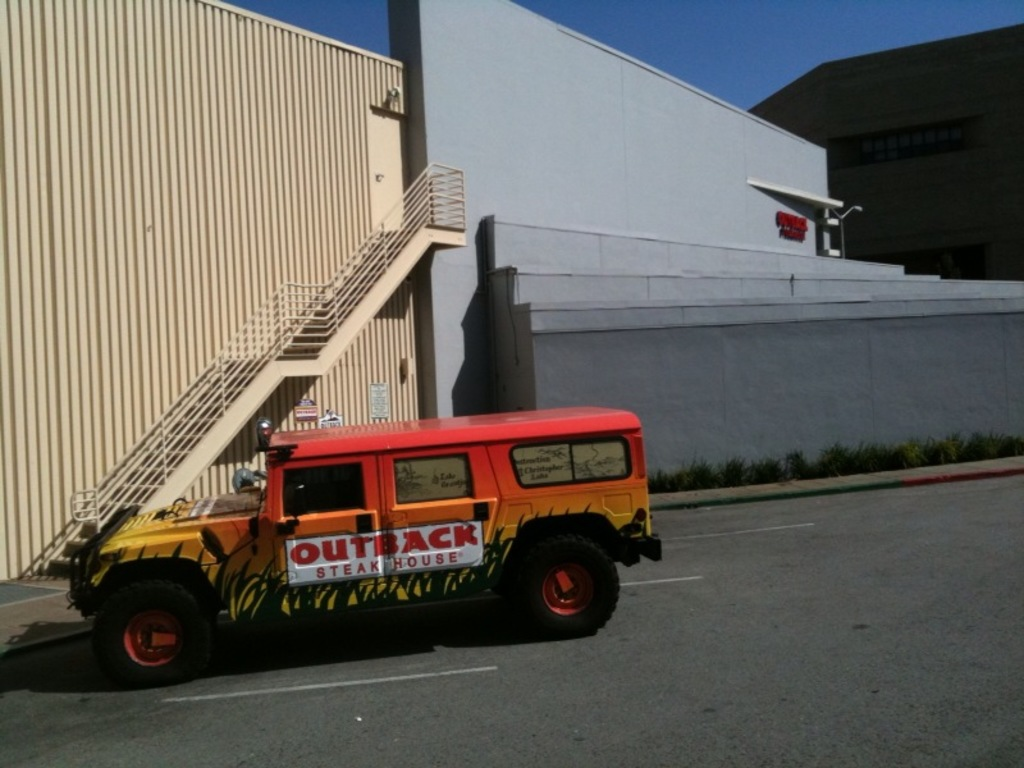Car: (83, 405, 620, 670)
